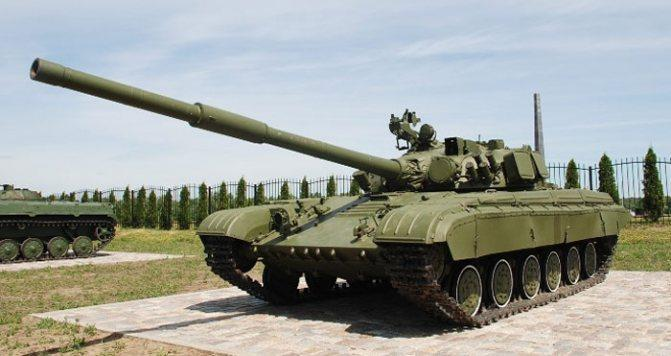tank: (23, 33, 653, 340), (0, 185, 119, 265)
